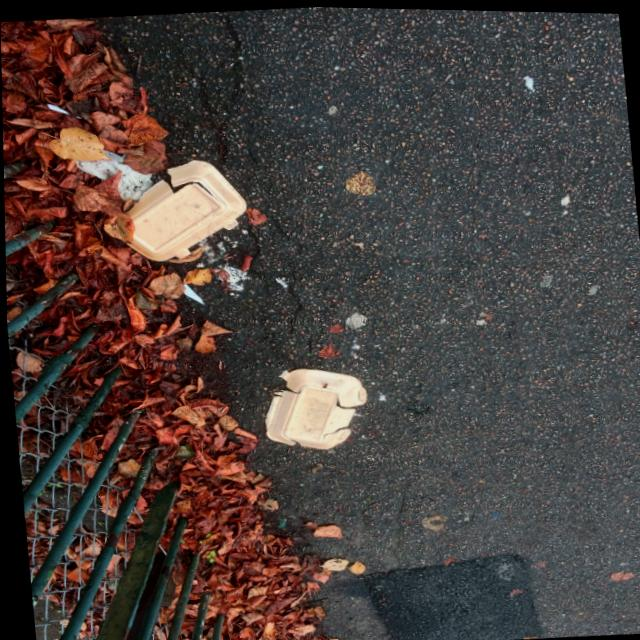Plastic: (95, 149, 254, 269), (248, 354, 377, 457), (66, 142, 161, 210)
